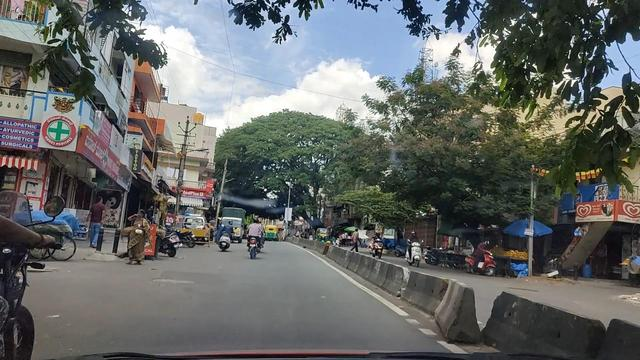RoadDamages: (139, 271, 203, 295)
